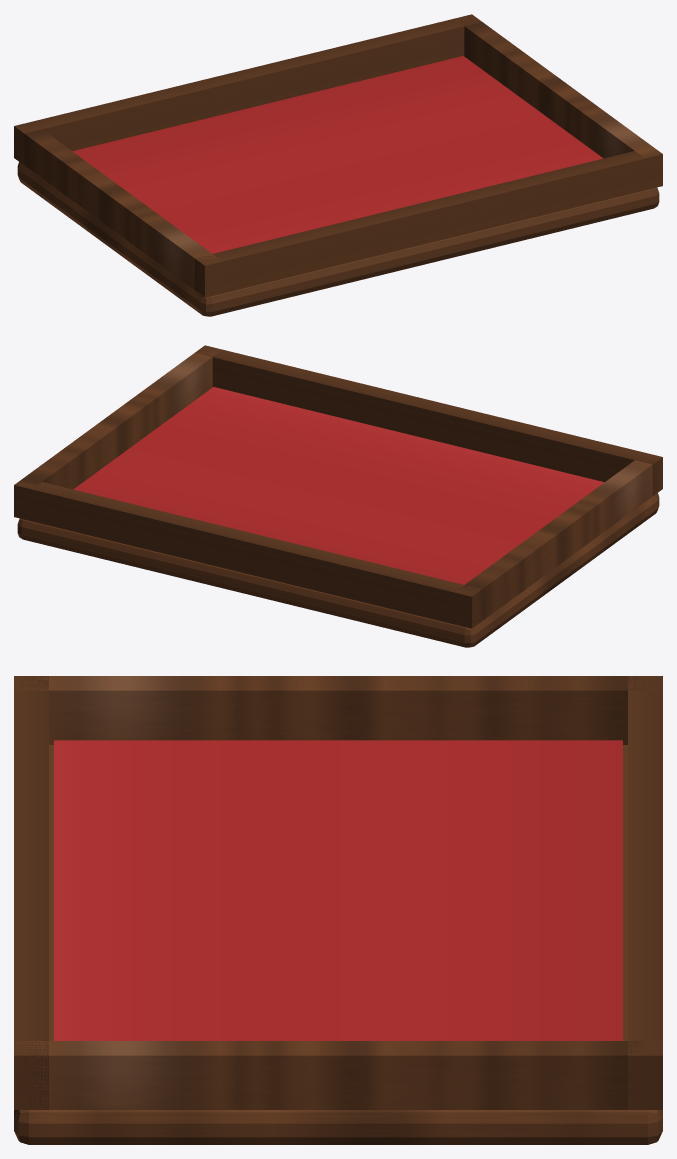
The model's file is tray-empty.glb.
The picture shows the model from 3 angles, top to bottom: view 1: azimuth 30°, elevation 25°; view 2: azimuth 150°, elevation 25°; view 3: azimuth 270°, elevation 25°; orthographic projection. The views are drawn at different scales.
Parts seen in each view (by area): view 1: tray-empty; view 2: tray-empty; view 3: tray-empty.
Boxes of the visible parts, x1,y1,x2,y2 form: tray-empty: (14, 14, 662, 316); tray-empty: (14, 345, 662, 647); tray-empty: (14, 676, 662, 1144).
Size of the model in its own units: 0.036 by 0.0042 by 0.026.
Materials: 1 (1 with a texture image).
